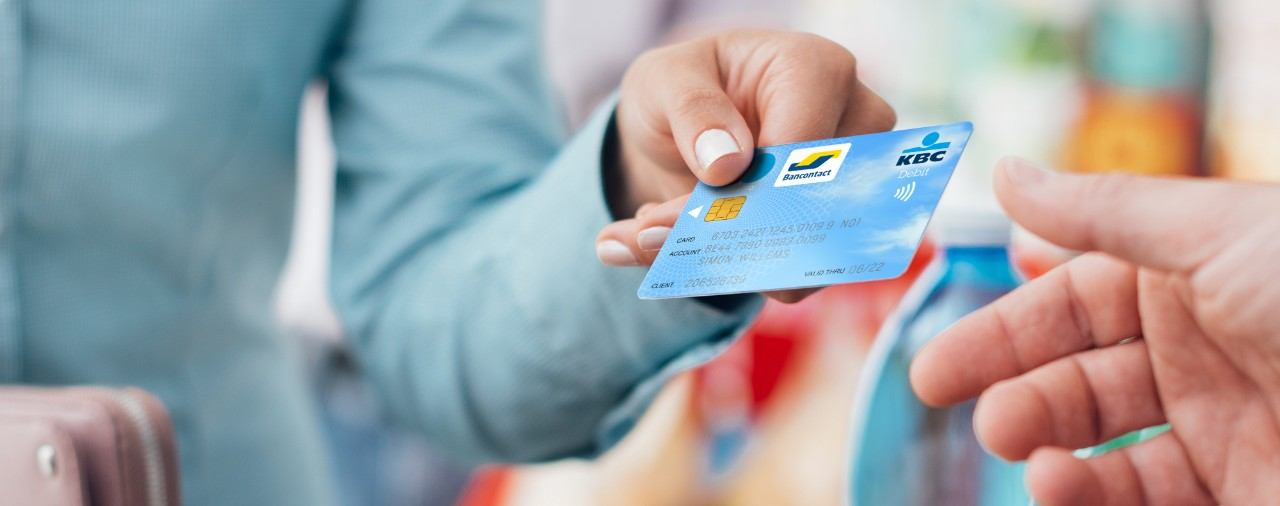tarjeta: (634, 118, 976, 302)
